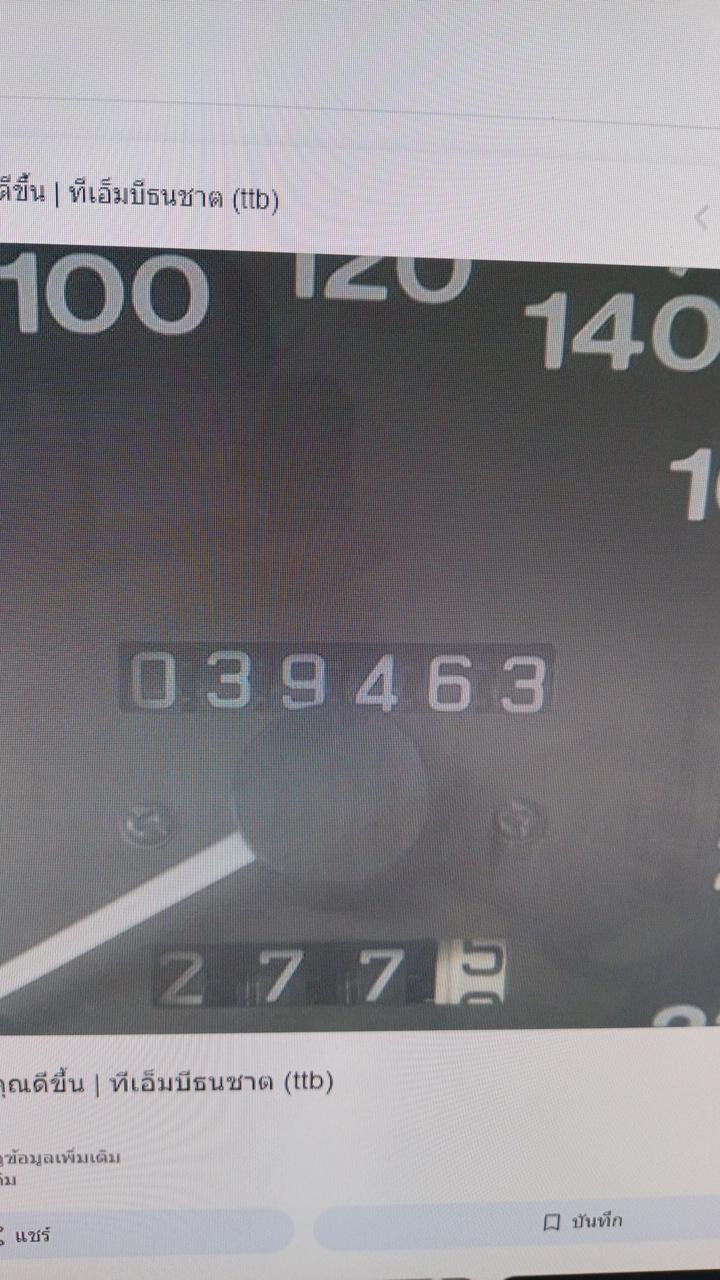0: (129, 648, 177, 713)
3: (200, 646, 253, 712), (499, 654, 547, 715)
4: (353, 650, 401, 713)
6: (427, 651, 473, 714)
9: (282, 652, 325, 711)
odometer: (115, 638, 556, 719)
